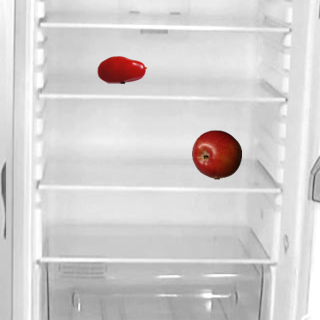Apple Braeburn: (191, 129, 241, 179)
Tomato 2: (96, 44, 146, 94)
